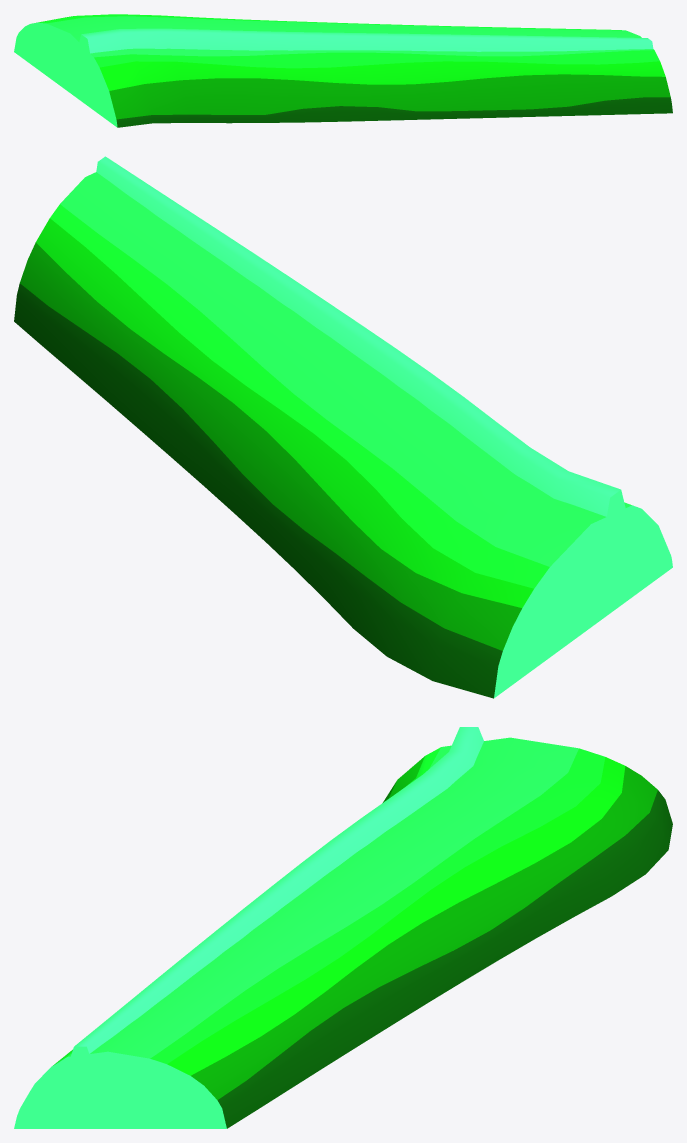
The model's file is shot_sonic_b250.glb.
3 renders of one model, top to bottom at view 1: azimuth 30°, elevation 25°; view 2: azimuth 150°, elevation 25°; view 3: azimuth 270°, elevation 25°, orthographic. The views are drawn at different scales.
Visible parts, largest first — view 1: sonic_chevron_wave_b250, sonic_chevron_core_b250; view 2: sonic_chevron_wave_b250, sonic_chevron_core_b250; view 3: sonic_chevron_wave_b250, sonic_chevron_core_b250.
Boxes of the visible parts, x1,y1,x2,y2 form: sonic_chevron_wave_b250: [14, 14, 672, 127]; sonic_chevron_core_b250: [74, 28, 653, 103]; sonic_chevron_wave_b250: [14, 172, 672, 698]; sonic_chevron_core_b250: [96, 156, 633, 622]; sonic_chevron_wave_b250: [14, 737, 672, 1128]; sonic_chevron_core_b250: [60, 727, 483, 1128].
Size of the model in its own units: 12 by 1.78 by 10.96.
